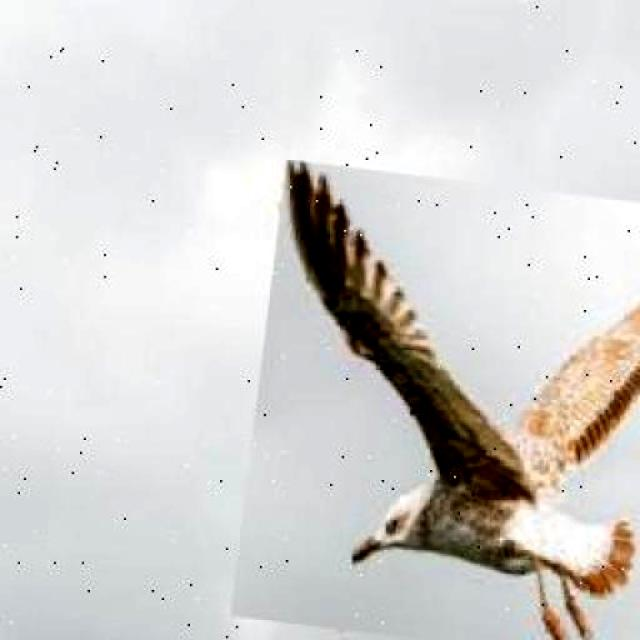airplane: (230, 159, 640, 640)
